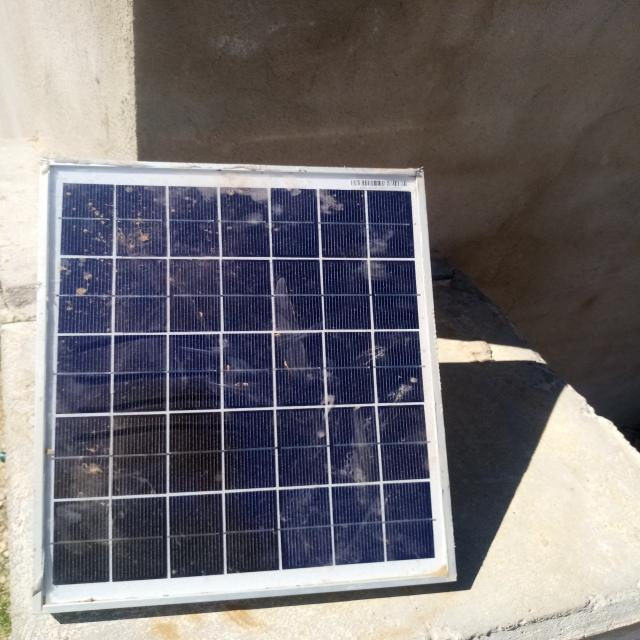faulty: (41, 163, 455, 612)
